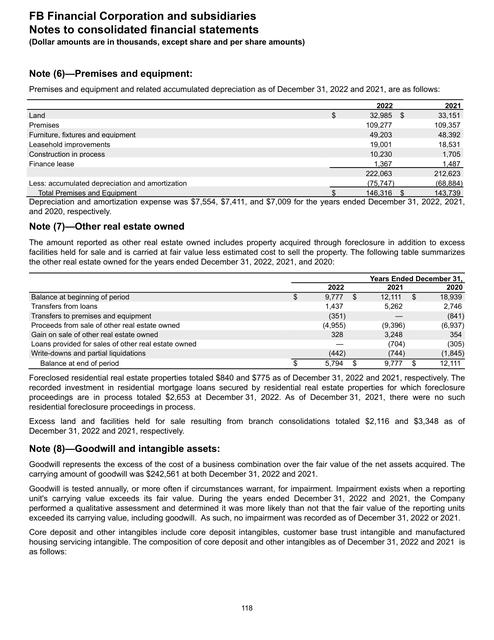box: (27, 97, 465, 199), (28, 271, 465, 372)
